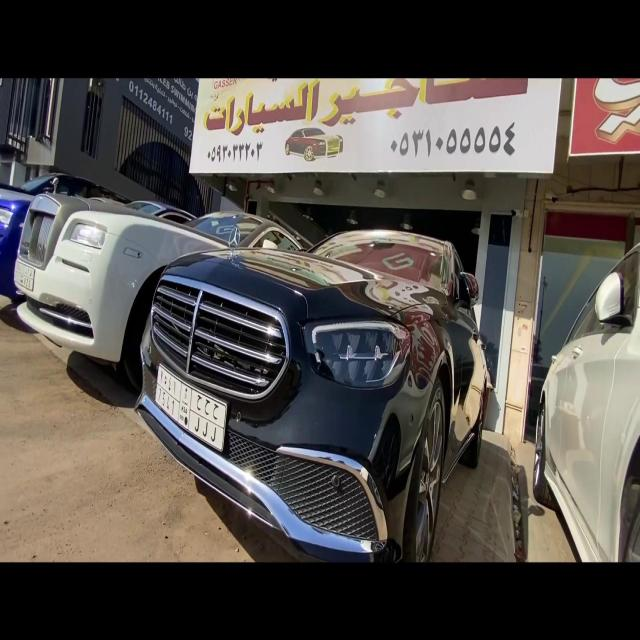license_plate: (152, 360, 230, 458)
